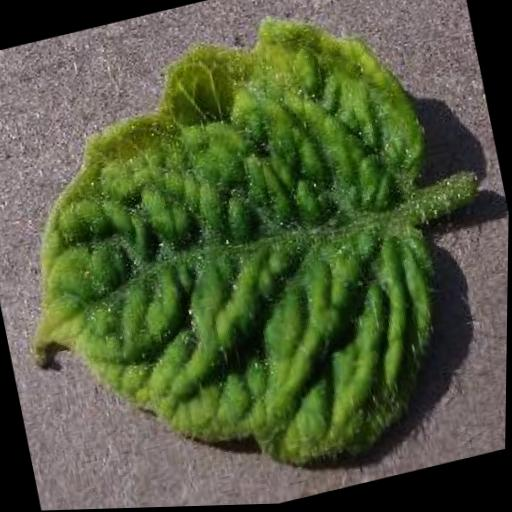Yellow Leaf Curl Virus: (0, 0, 487, 512)
